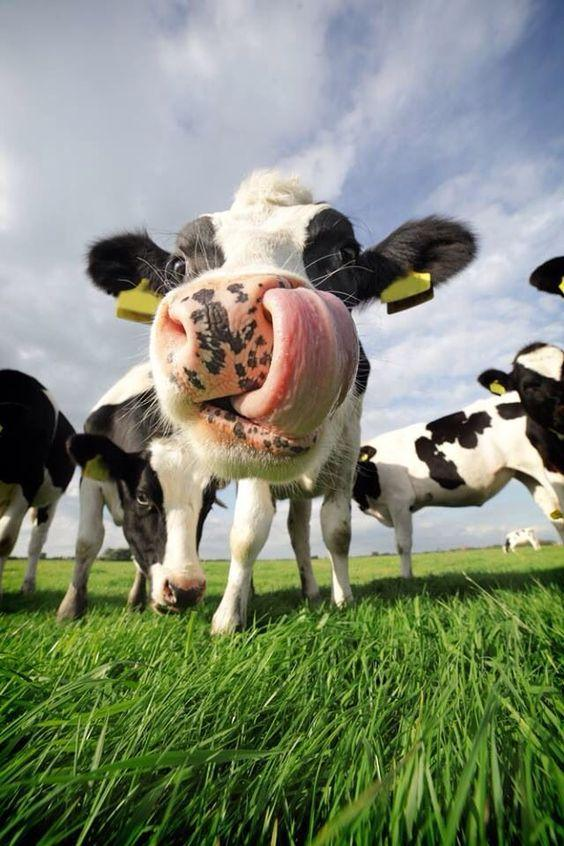cow: (88, 155, 475, 600)
